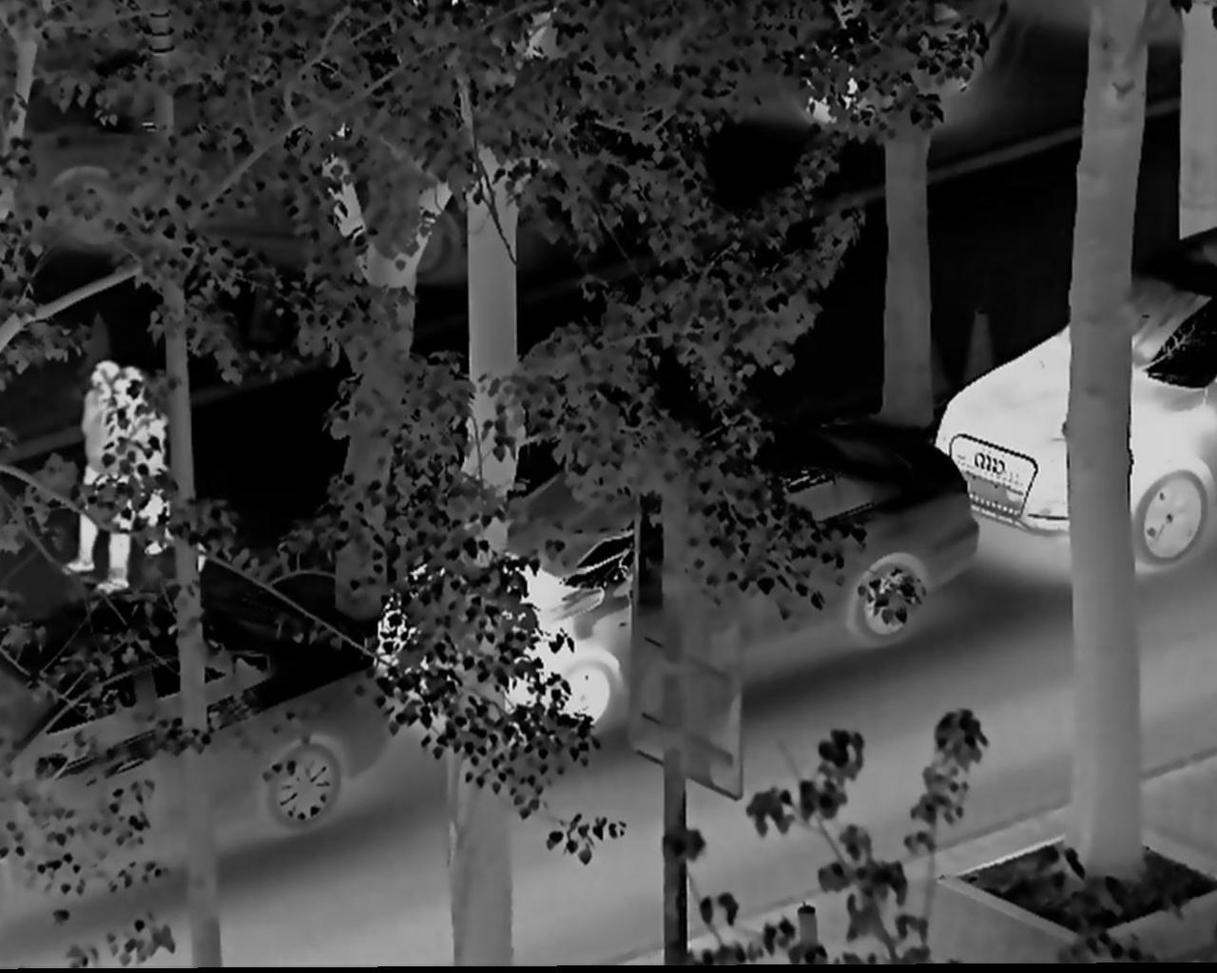person: (68, 361, 166, 573), (98, 372, 181, 601)
